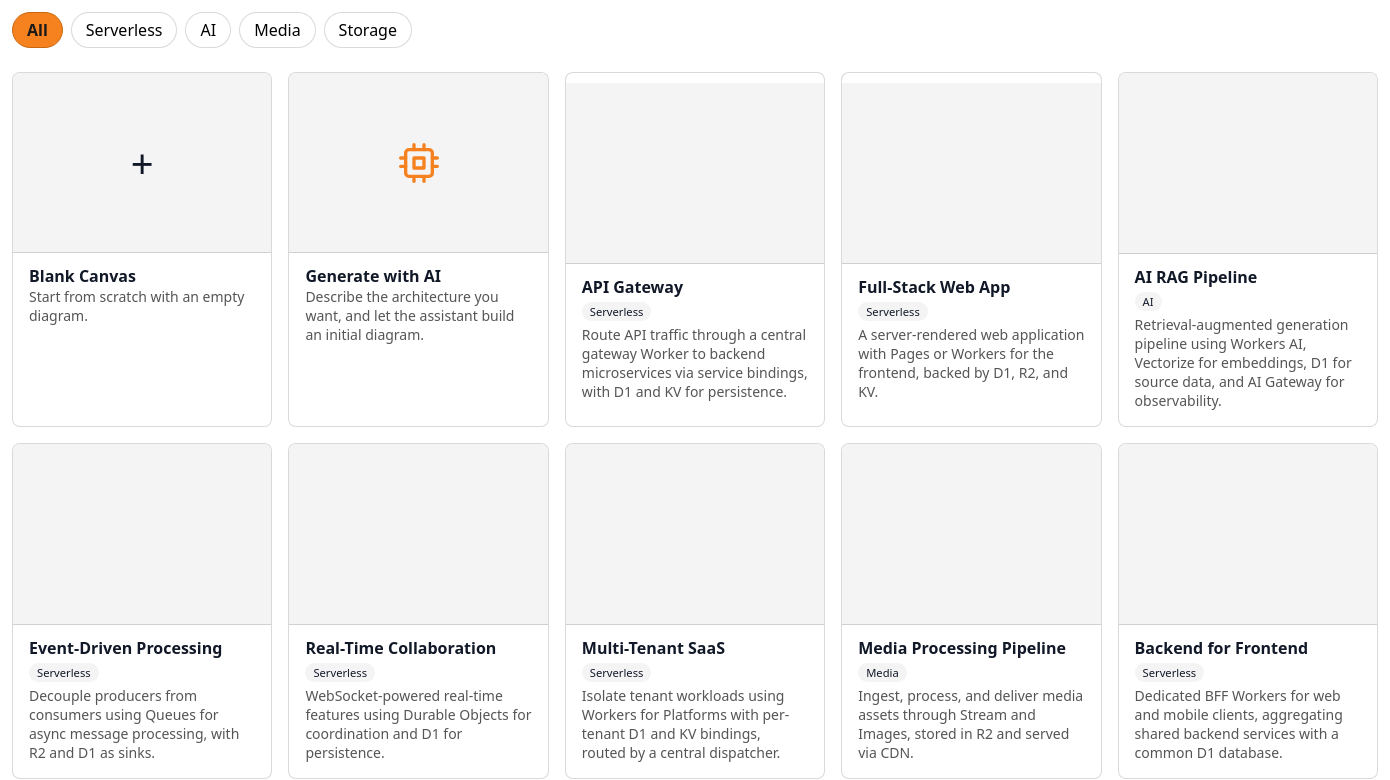
Scenario: BlueprintGallery › filtering › narrows the grid to Media and hides the rest
What coordinates should you click on to do the following:
click the tab "Media"
I would click on:
 (277, 30)
Its box is [239,12,316,48].
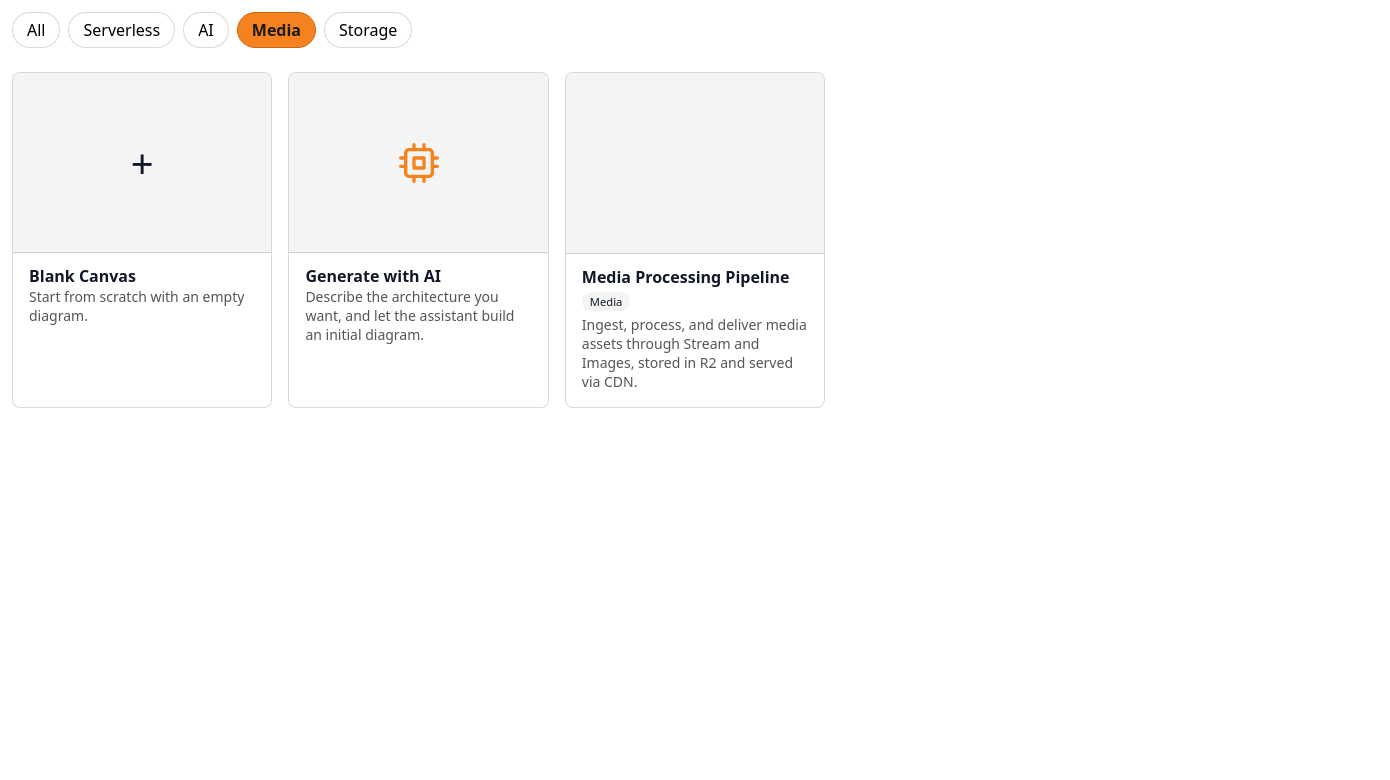
Result: the button "API Gateway" is gone
Result: the button "Full-Stack Web App" is gone
Result: the button "AI RAG Pipeline" is gone
